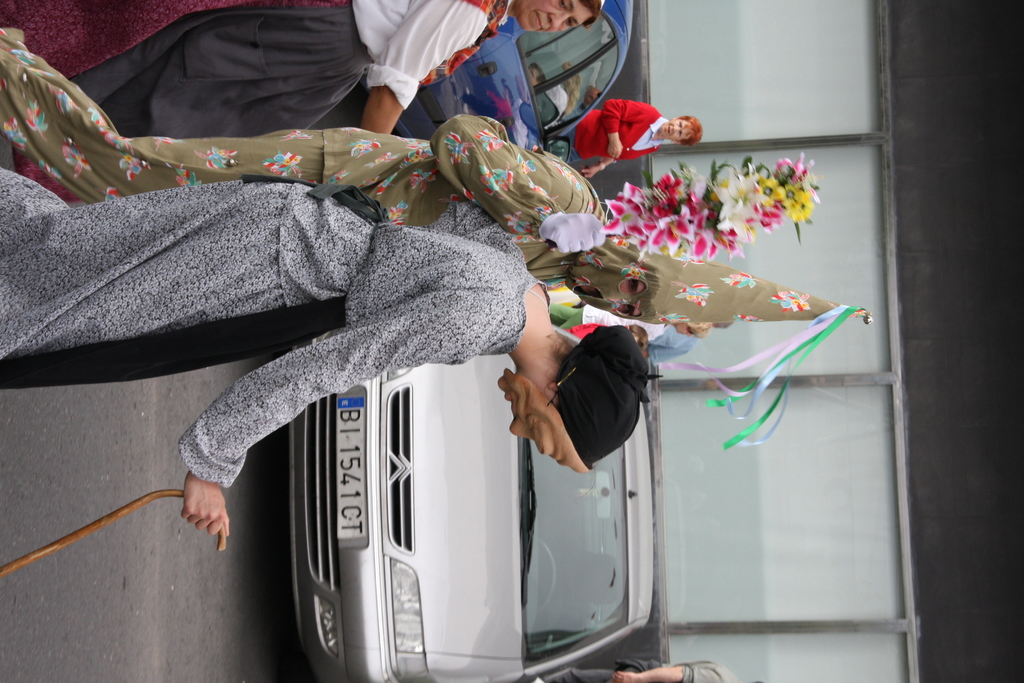Human_hand: (180, 472, 230, 536), (541, 211, 609, 255), (604, 139, 625, 161), (607, 671, 640, 682), (578, 167, 596, 183)
